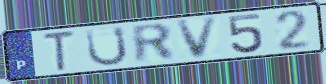2: (272, 9, 313, 53)
5: (226, 12, 266, 55)
R: (129, 22, 179, 65)
T: (40, 29, 77, 73)
U: (84, 25, 130, 68)
V: (175, 15, 221, 61)
